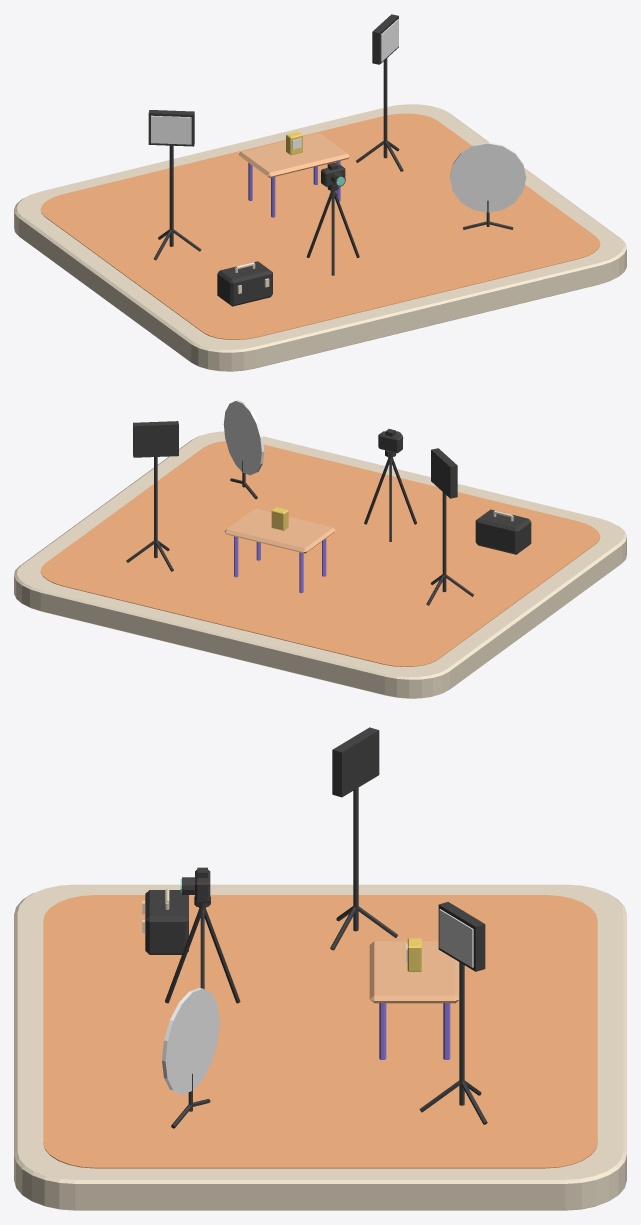
3 renders of one model, top to bottom at view 1: azimuth 30°, elevation 25°; view 2: azimuth 150°, elevation 25°; view 3: azimuth 270°, elevation 25°, orthographic. The views are drawn at different scales.
Parts seen in each view (by area): view 1: COM-02 Floor Surface, COM-01 Rounded Base Direct, Reflector, Rounded table top, Case, Diffuser, Light panel, Light panel.001, Diffuser.001; view 2: COM-02 Floor Surface, COM-01 Rounded Base Direct, Rounded table top, Reflector, Case, Light panel.001, Light panel, Pole, Body; view 3: COM-02 Floor Surface, COM-01 Rounded Base Direct, Rounded table top, Reflector, Case, Light panel, Diffuser.001, Light panel.001, Pole.001, Pole.
Boxes of the visible parts, <box> form: COM-02 Floor Surface: <box>40,113,600,339</box>; COM-01 Rounded Base Direct: <box>14,104,626,371</box>; Reflector: <box>450,142,526,212</box>; Rounded table top: <box>239,132,349,177</box>; Case: <box>217,261,272,306</box>; Diffuser: <box>151,115,191,144</box>; Light panel: <box>148,110,194,146</box>; Light panel.001: <box>372,14,398,64</box>; Diffuser.001: <box>381,19,398,61</box>; COM-02 Floor Surface: <box>40,441,600,666</box>; COM-01 Rounded Base Direct: <box>14,431,626,698</box>; Rounded table top: <box>224,508,335,553</box>; Reflector: <box>223,400,264,475</box>; Case: <box>475,509,531,554</box>; Light panel.001: <box>133,421,178,457</box>; Light panel: <box>431,448,457,498</box>; Pole: <box>442,492,446,592</box>; Body: <box>378,431,402,453</box>; COM-02 Floor Surface: <box>43,895,597,1168</box>; COM-01 Rounded Base Direct: <box>14,884,626,1210</box>; Rounded table top: <box>369,941,459,1003</box>; Reflector: <box>162,988,219,1094</box>; Case: <box>145,890,188,954</box>; Light panel: <box>332,727,379,797</box>; Diffuser.001: <box>439,909,473,967</box>; Light panel.001: <box>438,902,485,971</box>; Pole.001: <box>459,962,464,1105</box>; Pole: <box>353,788,358,931</box>.
Size of the model in its own units: 6 by 2.14 by 5.2.
1 material, 1 textured.
